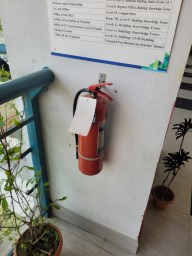fire_extinguisher: (61, 103, 132, 165)
